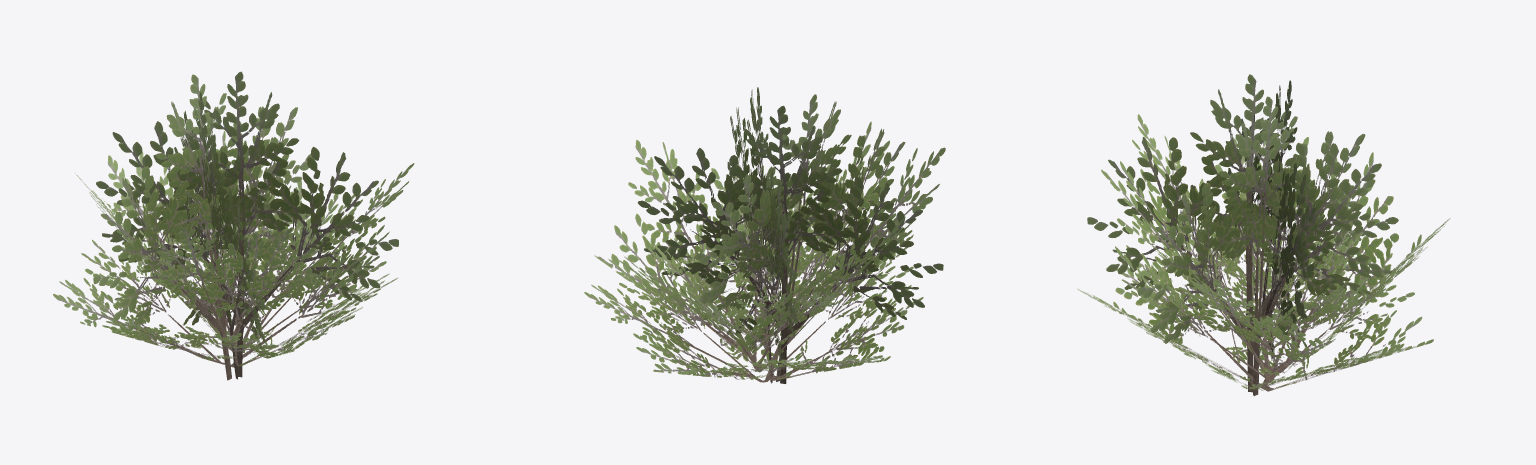
Rendered from weed_bush01a.fbx.
3 renders of one model, left to right at view 1: azimuth 30°, elevation 25°; view 2: azimuth 150°, elevation 25°; view 3: azimuth 270°, elevation 25°, orthographic.
Visible parts, largest first — view 1: weed_bush01a; view 2: weed_bush01a; view 3: weed_bush01a.
Part boxes in pixels (x1,y1,x2,y2): weed_bush01a: (53,71,414,380); weed_bush01a: (584,87,945,383); weed_bush01a: (1077,74,1450,395).
Bounding box in the file's own units: 156 × 110 × 156.
